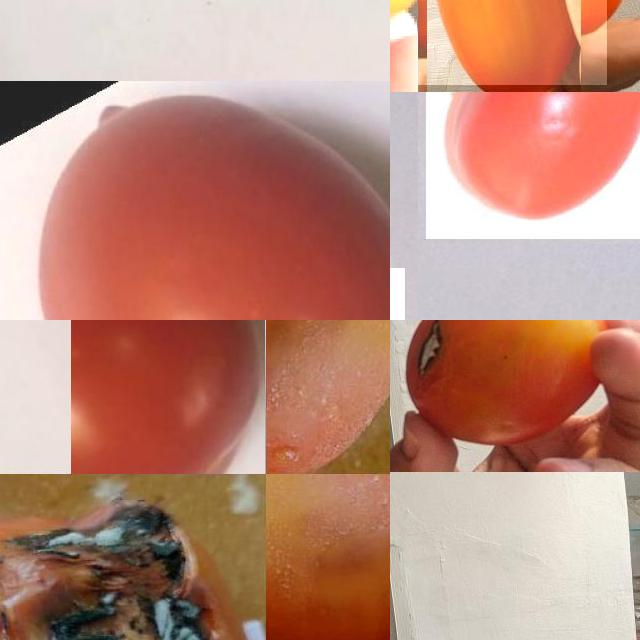0: (425, 92, 640, 238), (418, 0, 607, 85)
Fresh Tomato: (0, 81, 390, 320), (71, 320, 266, 474), (266, 474, 390, 640), (266, 320, 390, 474)
Rotten Tomato: (0, 474, 266, 640)
